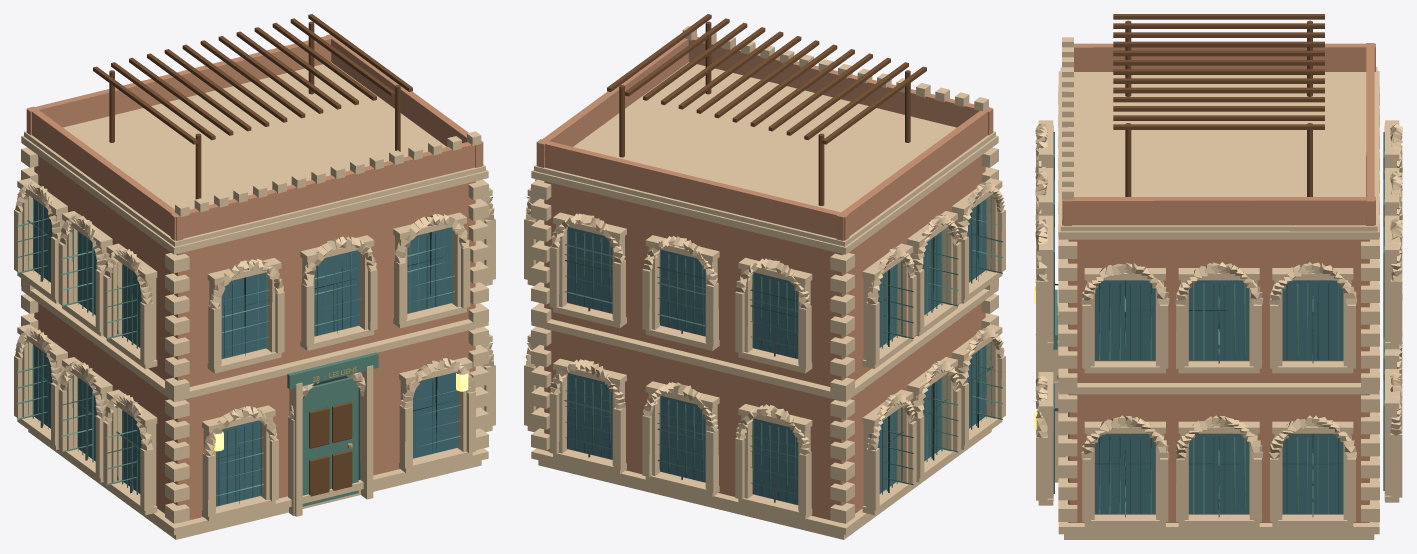
File: maroc-2-lod.glb
The picture shows the model from 3 angles, left to right: view 1: azimuth 30°, elevation 25°; view 2: azimuth 150°, elevation 25°; view 3: azimuth 270°, elevation 25°; orthographic projection. The views are drawn at different scales.
Visible parts, largest first — view 1: maroc-2_Dressed stone.001, maroc-2_Masonry plaster.001, maroc-2_Window blue.001, maroc-2_Walnut.001, maroc-2_Regional painted wood.001, maroc-2_Forged midnight.001; view 2: maroc-2_Dressed stone.001, maroc-2_Masonry plaster.001, maroc-2_Window blue.001, maroc-2_Walnut.001, maroc-2_Regional painted wood.001, maroc-2_Forged midnight.001; view 3: maroc-2_Dressed stone.001, maroc-2_Masonry plaster.001, maroc-2_Window blue.001, maroc-2_Walnut.001, maroc-2_Regional painted wood.001, maroc-2_Forged midnight.001.
Part boxes in pixels (x1,y1,x2,y2): maroc-2_Dressed stone.001: (14,62,495,539); maroc-2_Masonry plaster.001: (26,34,483,522); maroc-2_Window blue.001: (33,198,457,506); maroc-2_Walnut.001: (93,14,412,496); maroc-2_Regional painted wood.001: (17,196,492,506); maroc-2_Forged midnight.001: (27,204,451,503); maroc-2_Dressed stone.001: (524,26,1005,539); maroc-2_Masonry plaster.001: (536,36,993,522); maroc-2_Window blue.001: (567,198,986,504); maroc-2_Walnut.001: (607,14,926,205); maroc-2_Regional painted wood.001: (527,196,1002,504); maroc-2_Forged midnight.001: (564,204,993,502); maroc-2_Dressed stone.001: (1035,37,1402,539); maroc-2_Masonry plaster.001: (1062,43,1375,522); maroc-2_Window blue.001: (1053,132,1384,514); maroc-2_Walnut.001: (1113,14,1324,196); maroc-2_Regional painted wood.001: (1053,283,1338,514); maroc-2_Forged midnight.001: (1055,280,1343,517).
Size of the model in its own units: 15.5 by 14.27 by 12.2.
